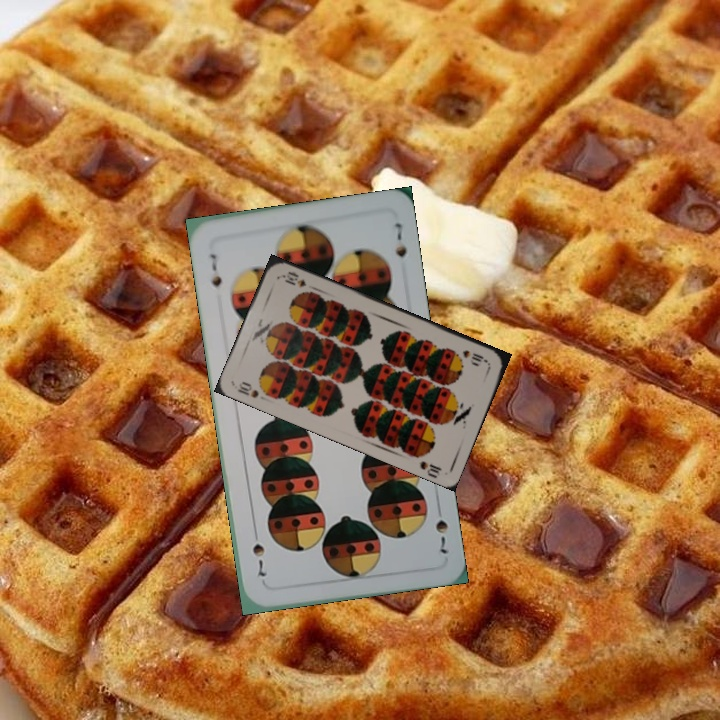S10: (233, 377, 261, 401), (458, 346, 490, 365)
S7: (431, 516, 452, 556), (206, 249, 225, 289)
